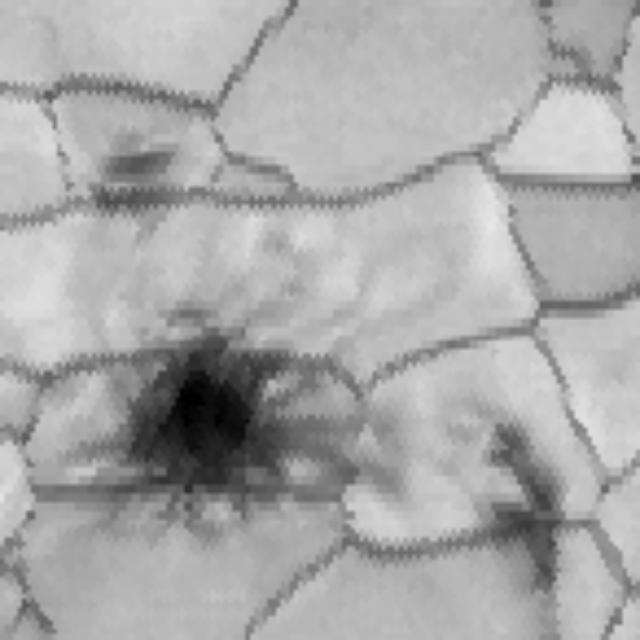good_void: (53, 301, 407, 546), (467, 418, 572, 600), (90, 121, 195, 203), (537, 25, 595, 81)
